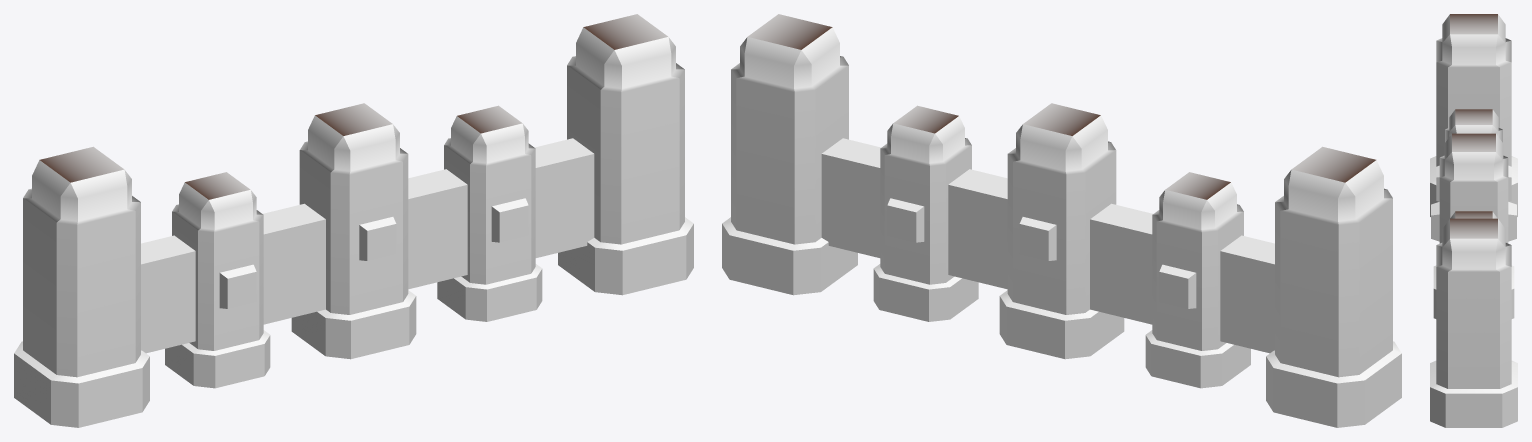
Rendered from Wall_Lv11_1.fbx.
The picture shows the model from 3 angles, left to right: view 1: azimuth 30°, elevation 25°; view 2: azimuth 150°, elevation 25°; view 3: azimuth 270°, elevation 25°; orthographic projection. The views are drawn at different scales.
Visible parts, largest first — view 1: Wall; view 2: Wall; view 3: Wall.
Part boxes in pixels (<box>): Wall: <box>14,14,693,427</box>; Wall: <box>722,14,1401,427</box>; Wall: <box>1430,14,1517,427</box>.
Size of the model in its own units: 1.57 by 0.5491 by 0.2423.
